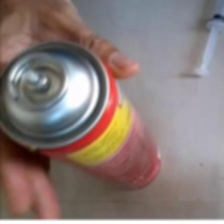aerosol_cans: (0, 35, 167, 197)
